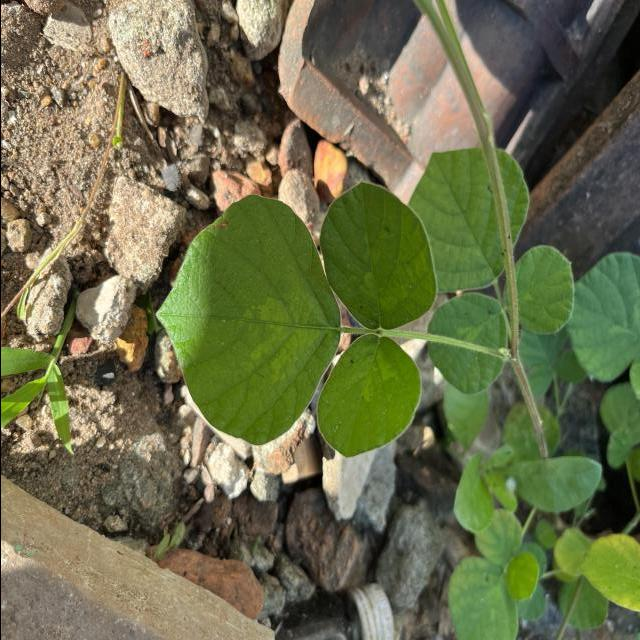Pseudarthria viscida: (152, 177, 439, 461)
